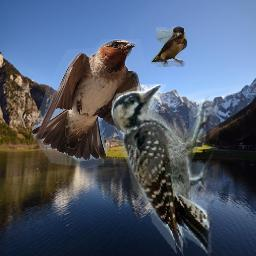Swallow: (32, 39, 152, 188), (151, 26, 187, 67)
Woodpecker: (110, 84, 219, 256)
